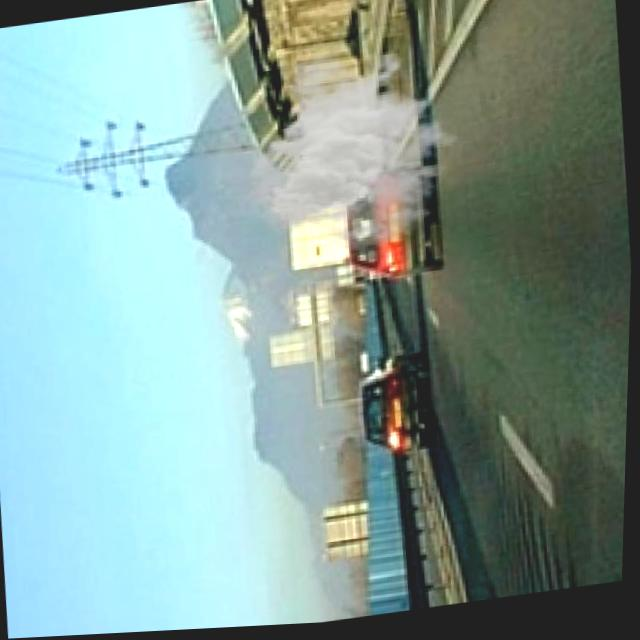Smoke: (231, 37, 475, 270)
